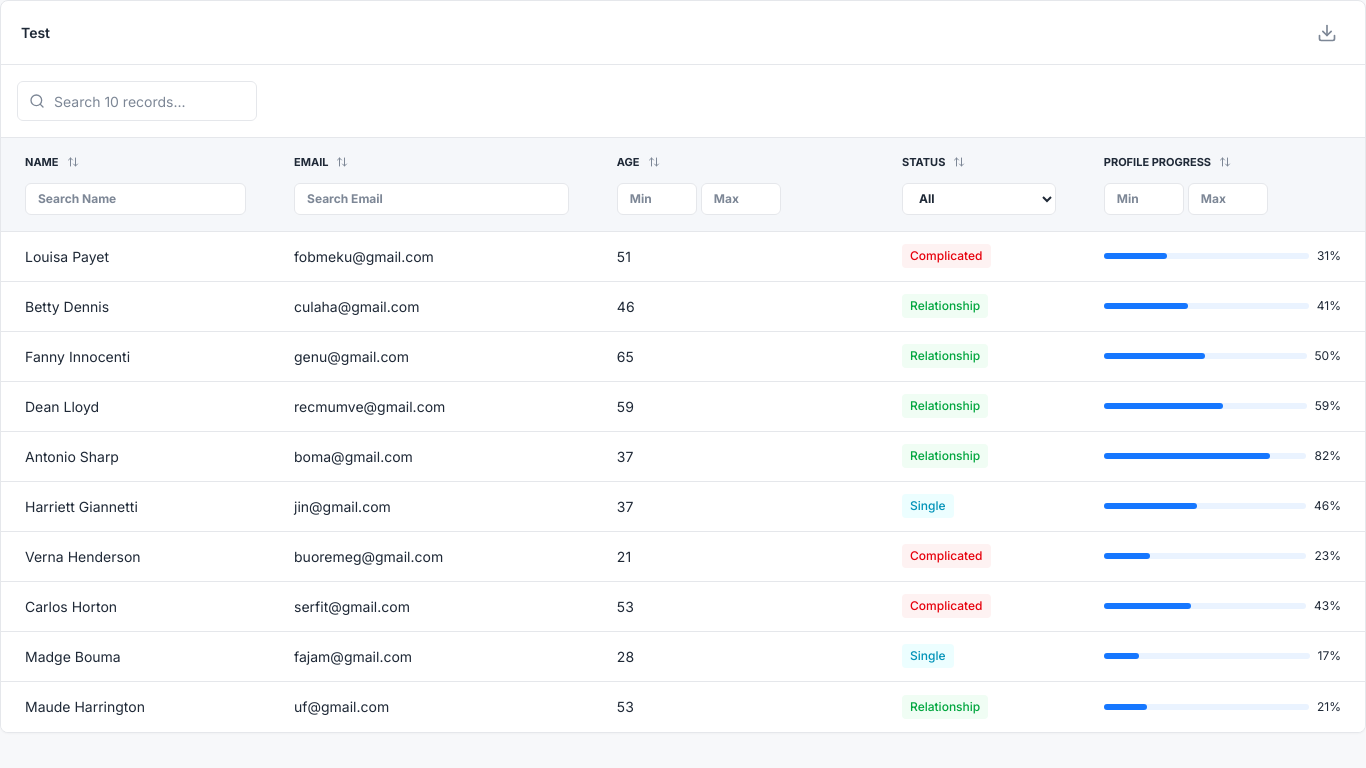
Test case: React Table examples › combines text, numeric range and status filters
Type "50" into the number field named "Minimum Age".
click(657, 198); type("50")  # box [617,182,697,214]
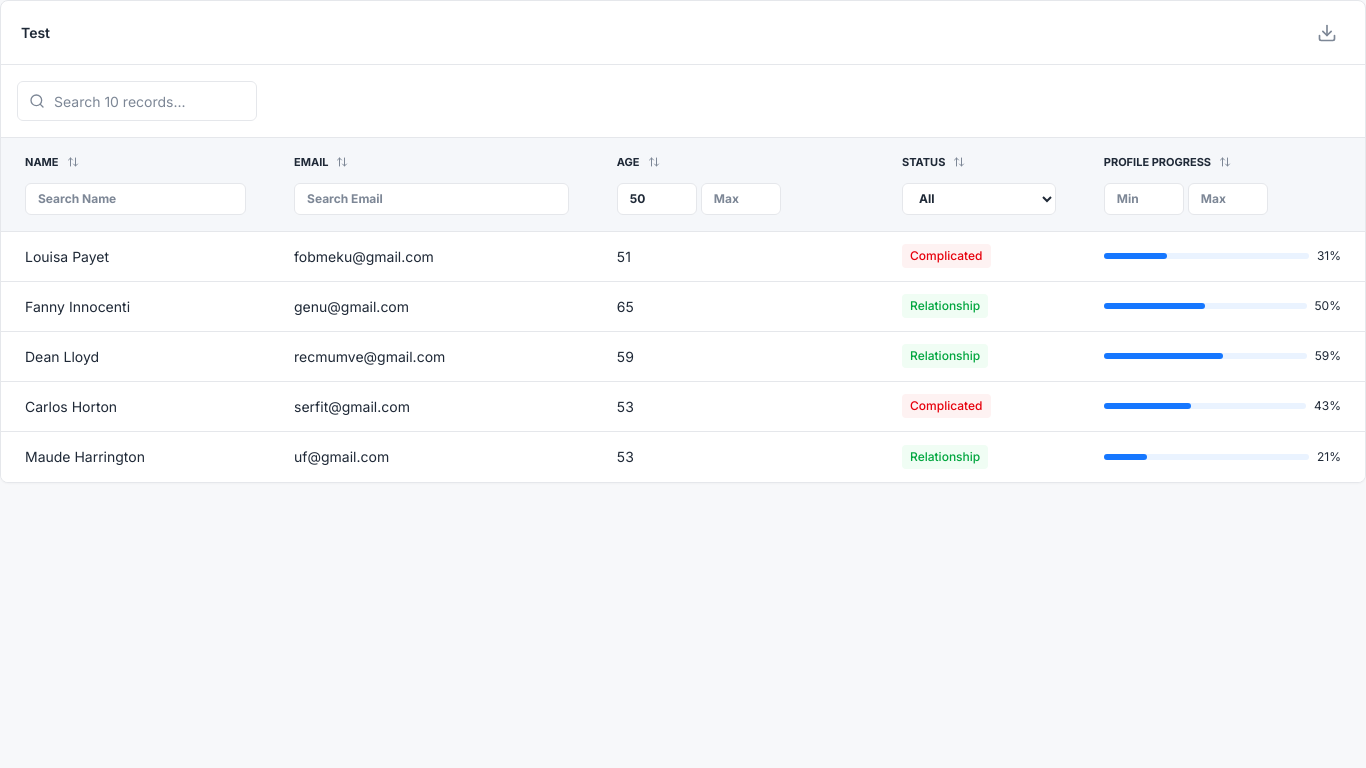
Select "Complicated" in the dropdown named "Filter Status" at (979, 198), box [902,182,1056,214]
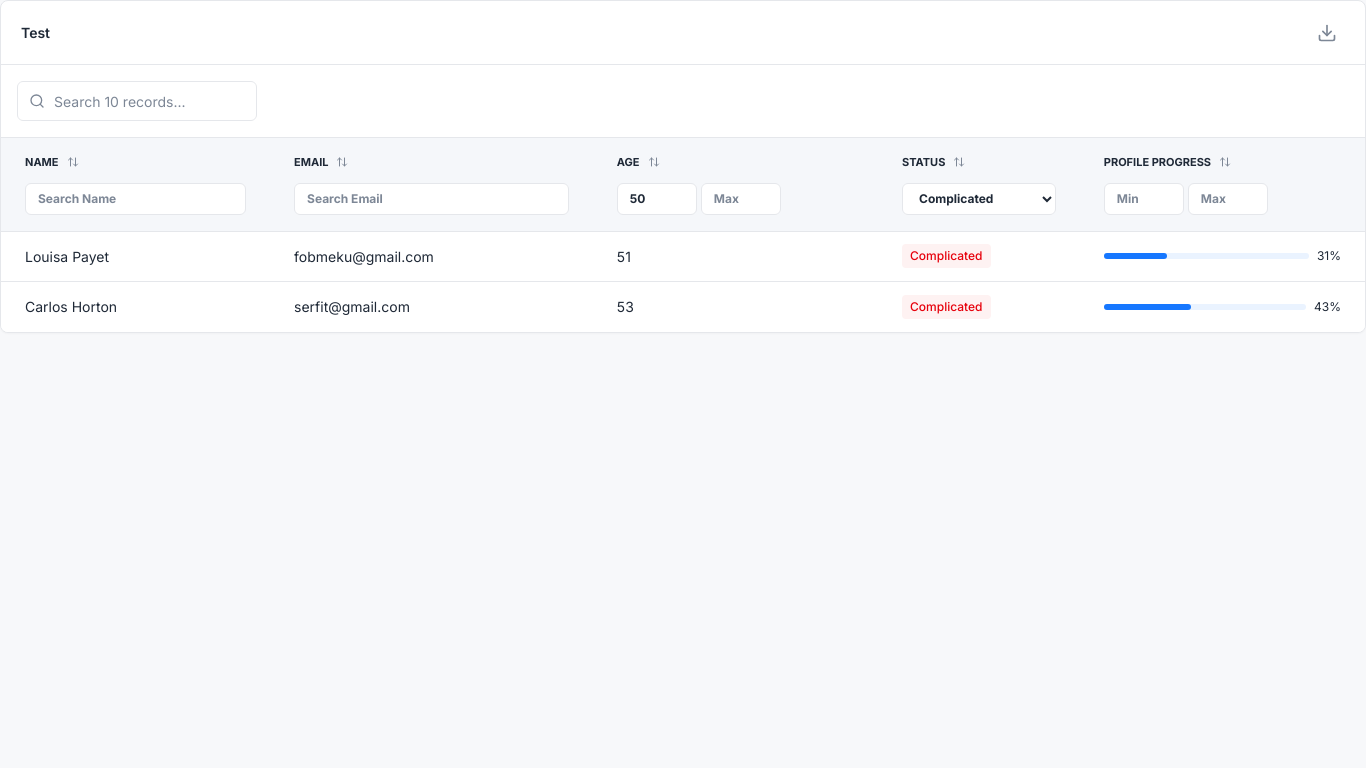
Type "Louisa" into the field labelled "Search Name".
click(136, 198); type("Louisa")  # box [25,182,246,214]
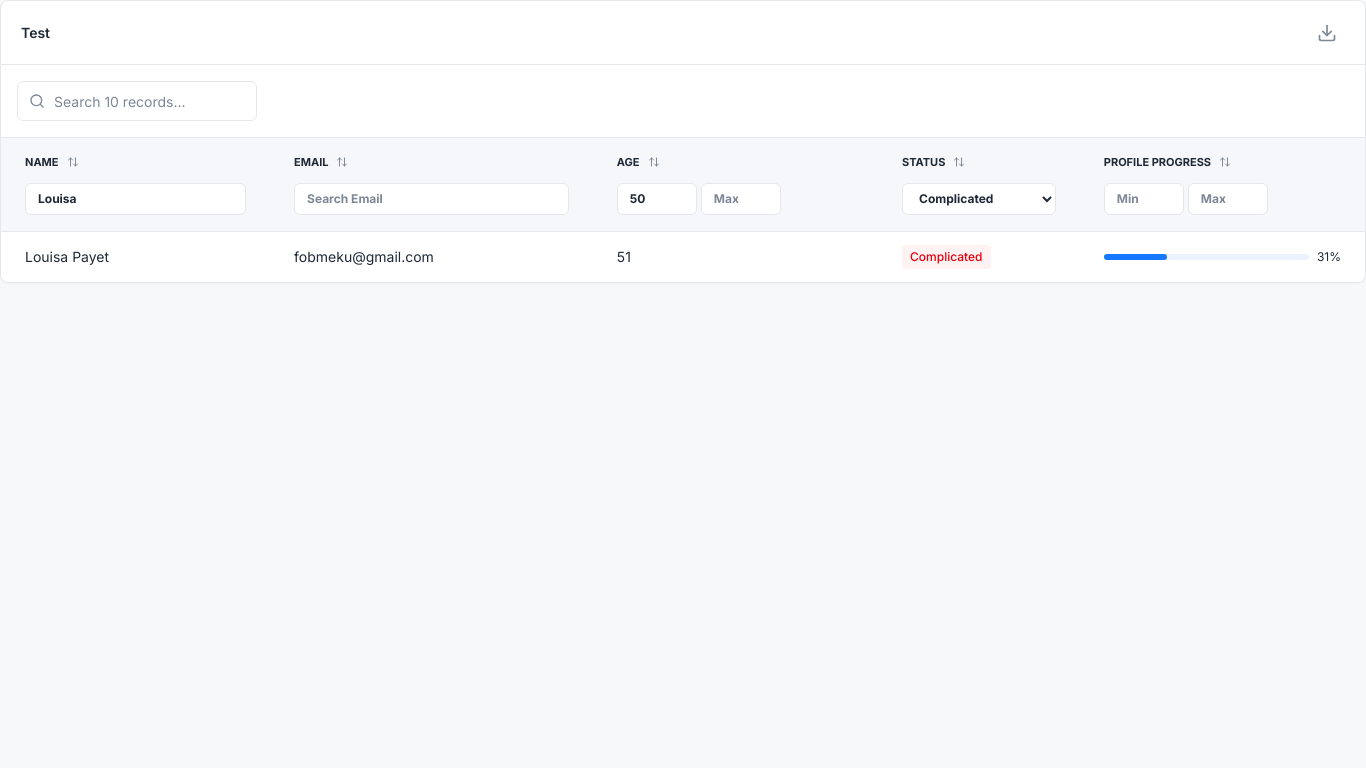
Type "missing" into the field named "Search records — Test".
click(137, 101); type("missing")  # box [17,81,257,121]
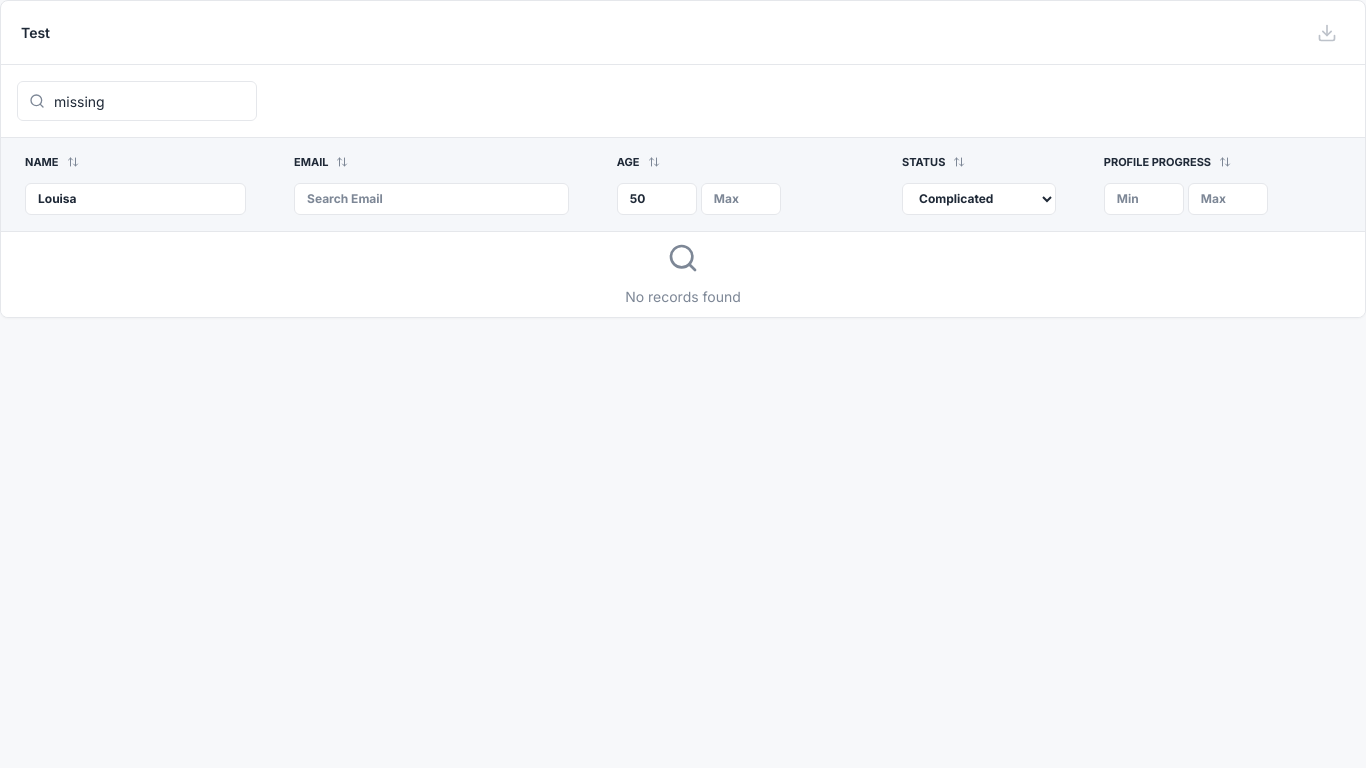
Expected: the text "No records found" is shown, [1,232,1365,316]
